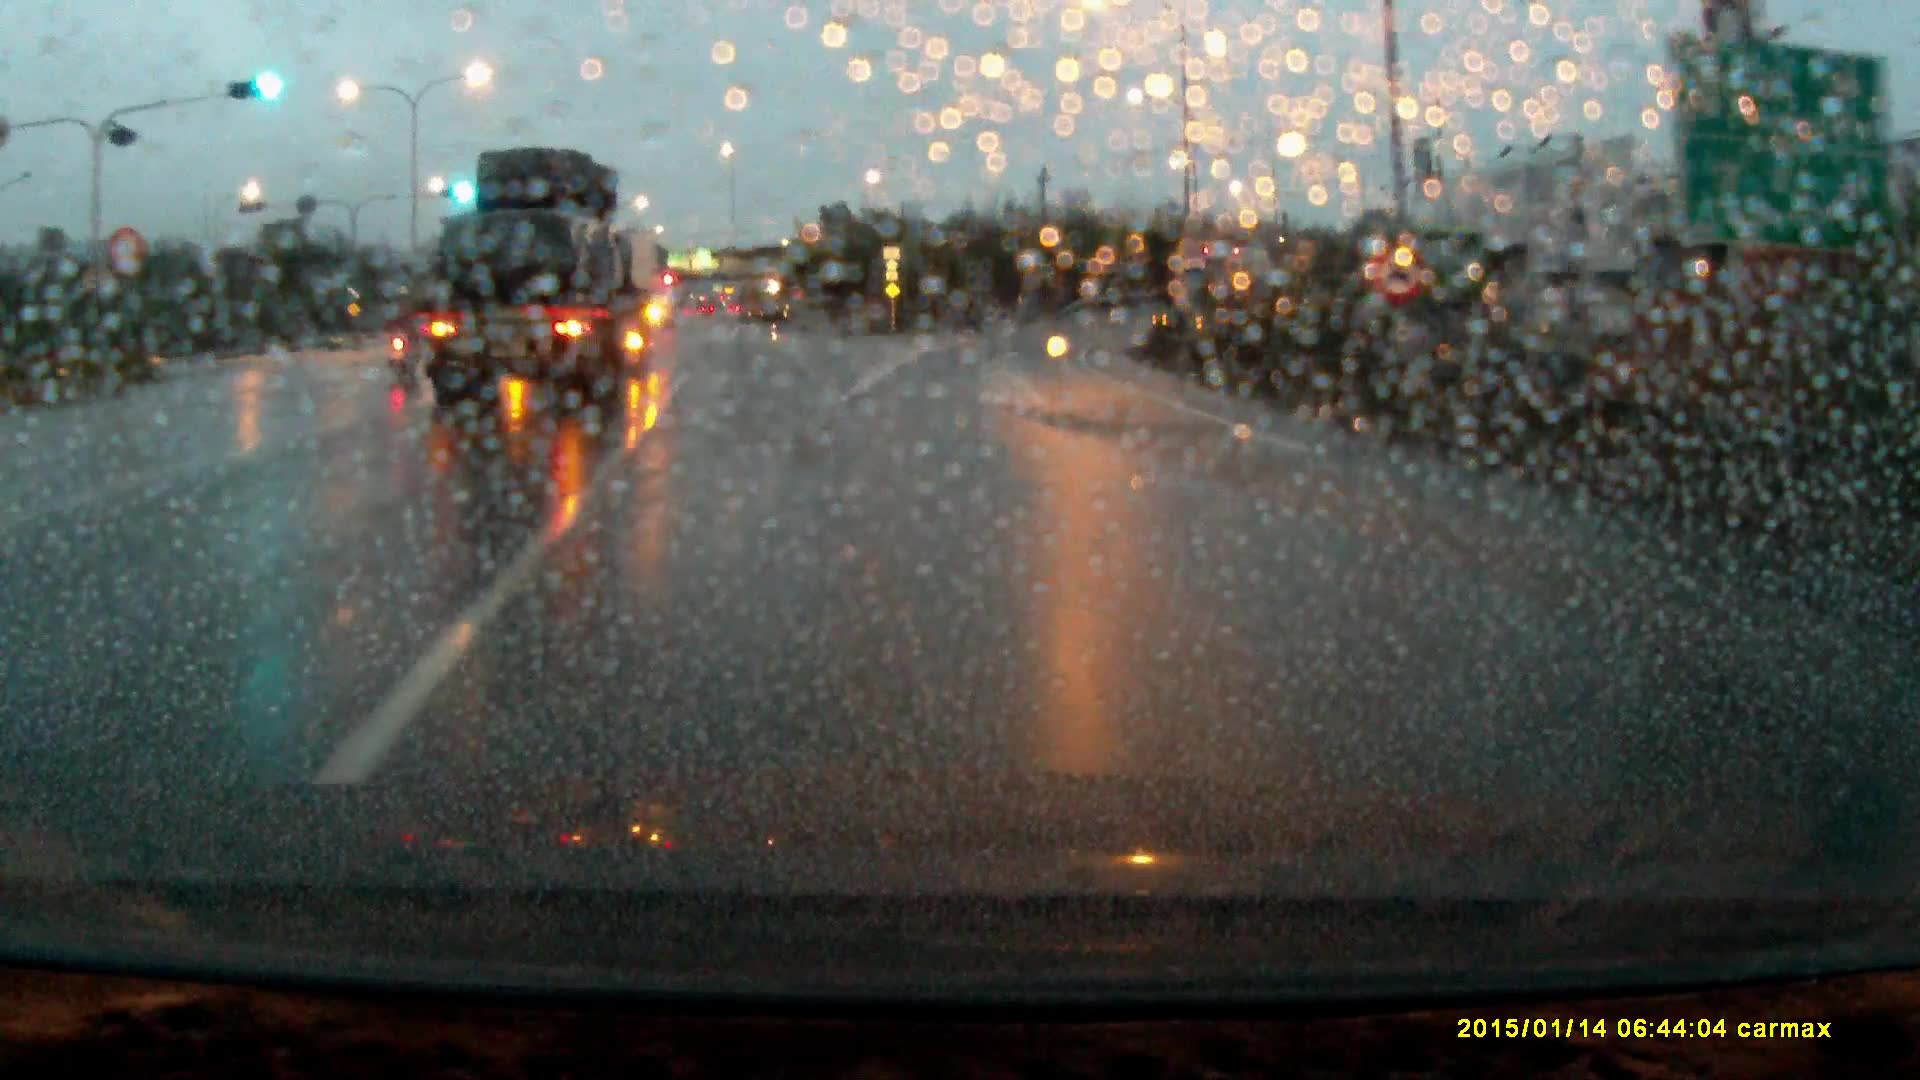rider: (379, 286, 430, 392)
vehicle: (425, 148, 658, 428)
